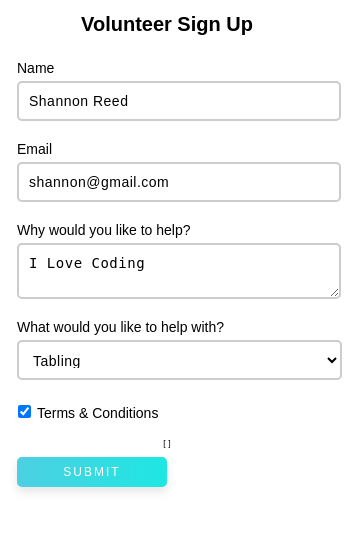
it: This test is for the form › check for email error
This screenshot has width=359, height=550.
Clear the field below "Email" at (179, 182), box [17,162,341,202]
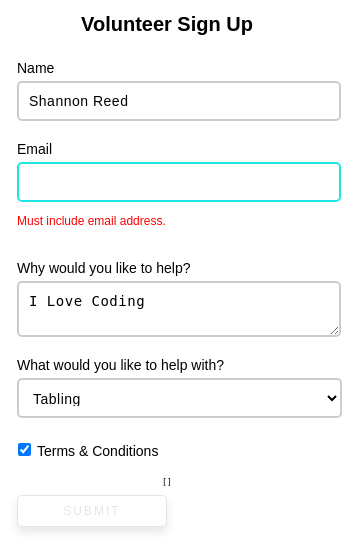
Result: the text "Must include email address" is shown at [17,214,166,228]
